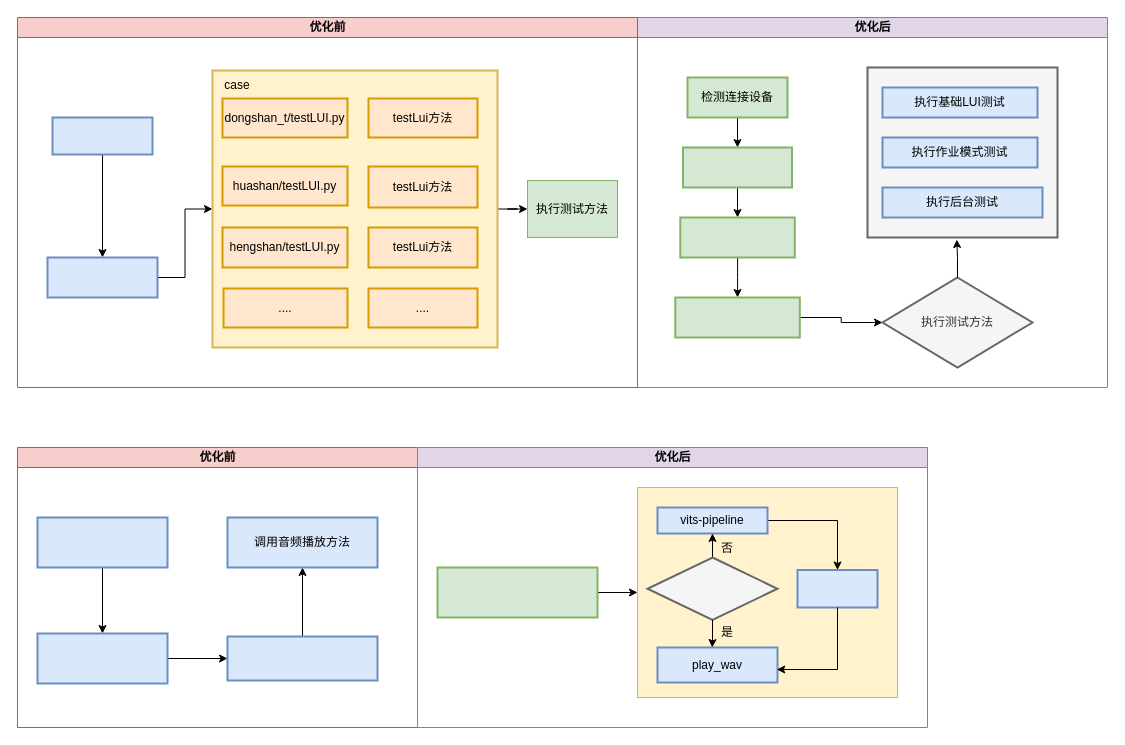
Some shapes in this 1125 by 745 pixel diagram are drawn without their labels. Here are the shapes that lost their labels. From the top down, the centre of each, then its label:
At point 102,135: "执行测试前".
At point 737,167: "识别设备型号".
At point 737,237: "加载设备配置文件".
At point 102,277: "手动导入指定设备测试方法".
At point 737,317: "创建对应设备测试实例".
At point 102,542: "第三方网站生成音频".
At point 517,592: "play_sound_by_pipeline(text)".
At point 712,588: "video中是否已存在".
At point 837,588: ".wav".
At point 102,658: "下载.wav文件".
At point 302,658: "放入video目录下".
